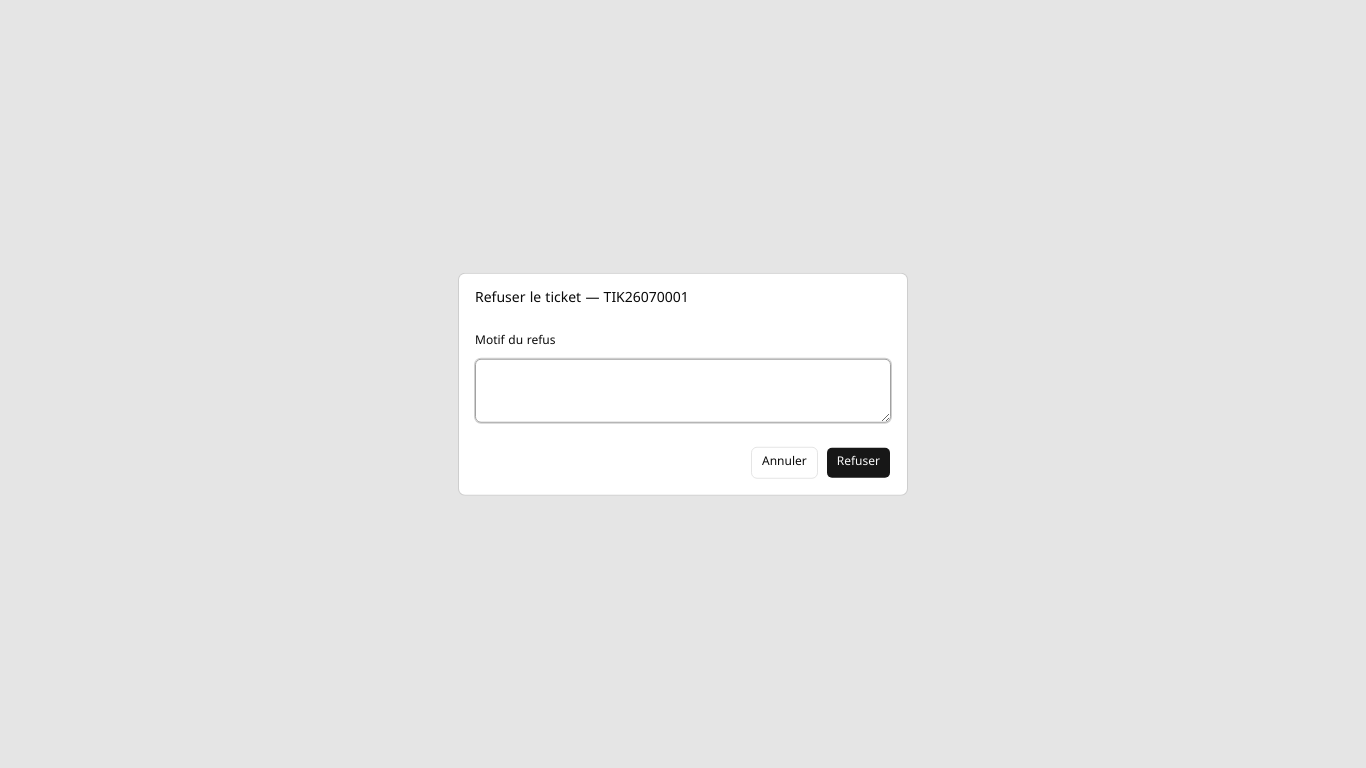
Test case: TikActionDialog › affiche une erreur si on confirme un refus sans commentaire
Click the button "Refuser" at [858, 462], box top-left (826, 446), bottom-right (891, 478)
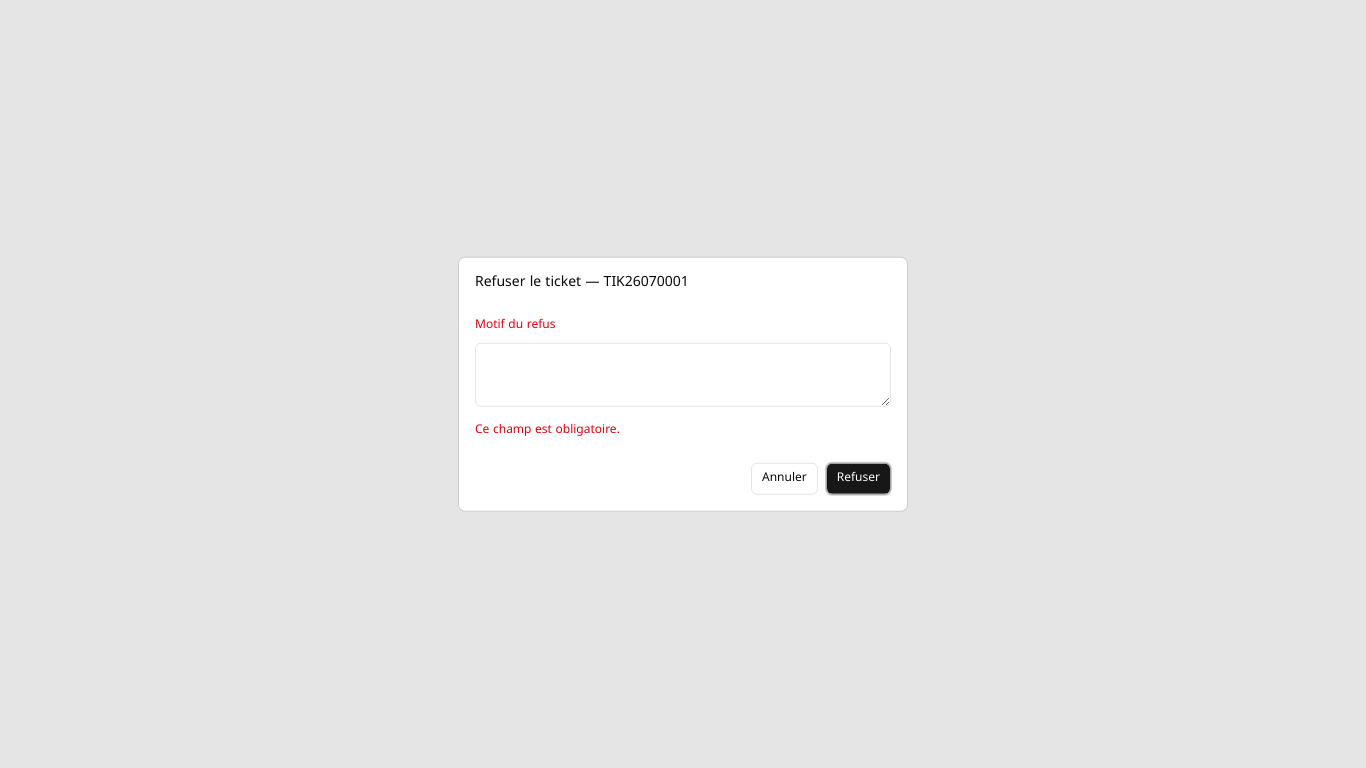
Check: the text "Ce champ est obligatoire." is shown, box top-left (475, 421), bottom-right (620, 439)
